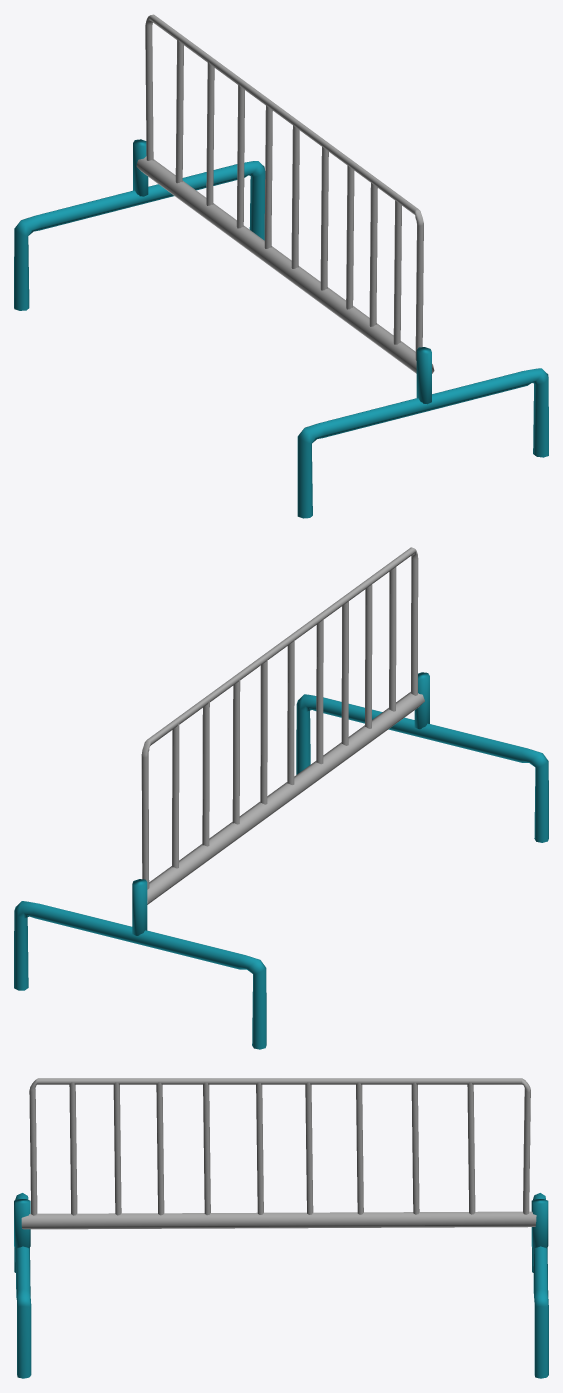
File: valla.fbx
3 renders of one model, top to bottom at view 1: azimuth 30°, elevation 25°; view 2: azimuth 150°, elevation 25°; view 3: azimuth 270°, elevation 25°, orthographic. The views are drawn at different scales.
Visible parts, largest first — view 1: pCylinder25, polySurface10, polySurface8; view 2: pCylinder25, polySurface8, polySurface10; view 3: pCylinder25, polySurface8, polySurface10.
Boxes of the visible parts, x1,y1,x2,y2 form: pCylinder25: (136, 14, 434, 373); polySurface10: (297, 347, 548, 518); polySurface8: (14, 139, 265, 310); pCylinder25: (141, 547, 424, 904); polySurface8: (14, 879, 266, 1049); polySurface10: (296, 672, 548, 842); pCylinder25: (21, 1078, 536, 1229); polySurface8: (531, 1193, 548, 1378); polySurface10: (14, 1193, 31, 1378).
Size of the model in its own units: 17.98 by 18.49 by 36.32.
